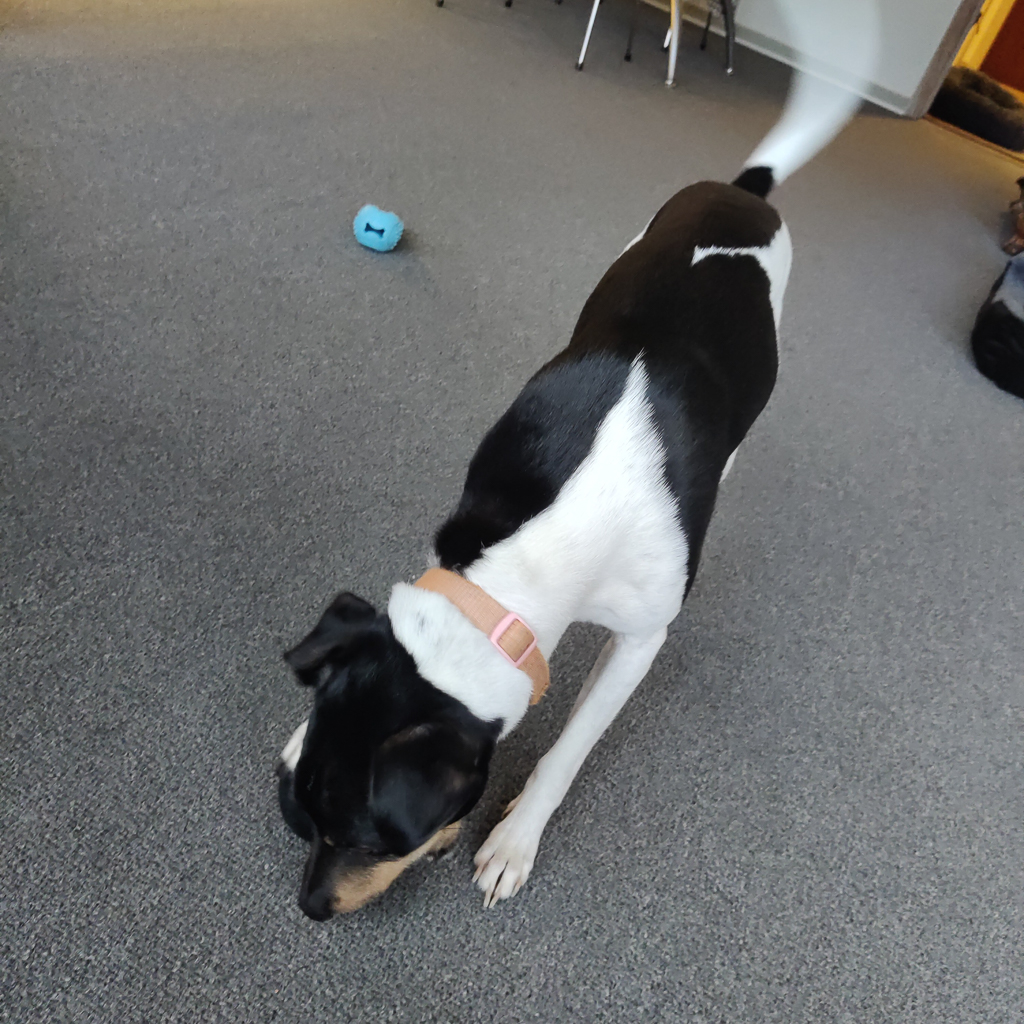Dog: (226, 0, 919, 947)
